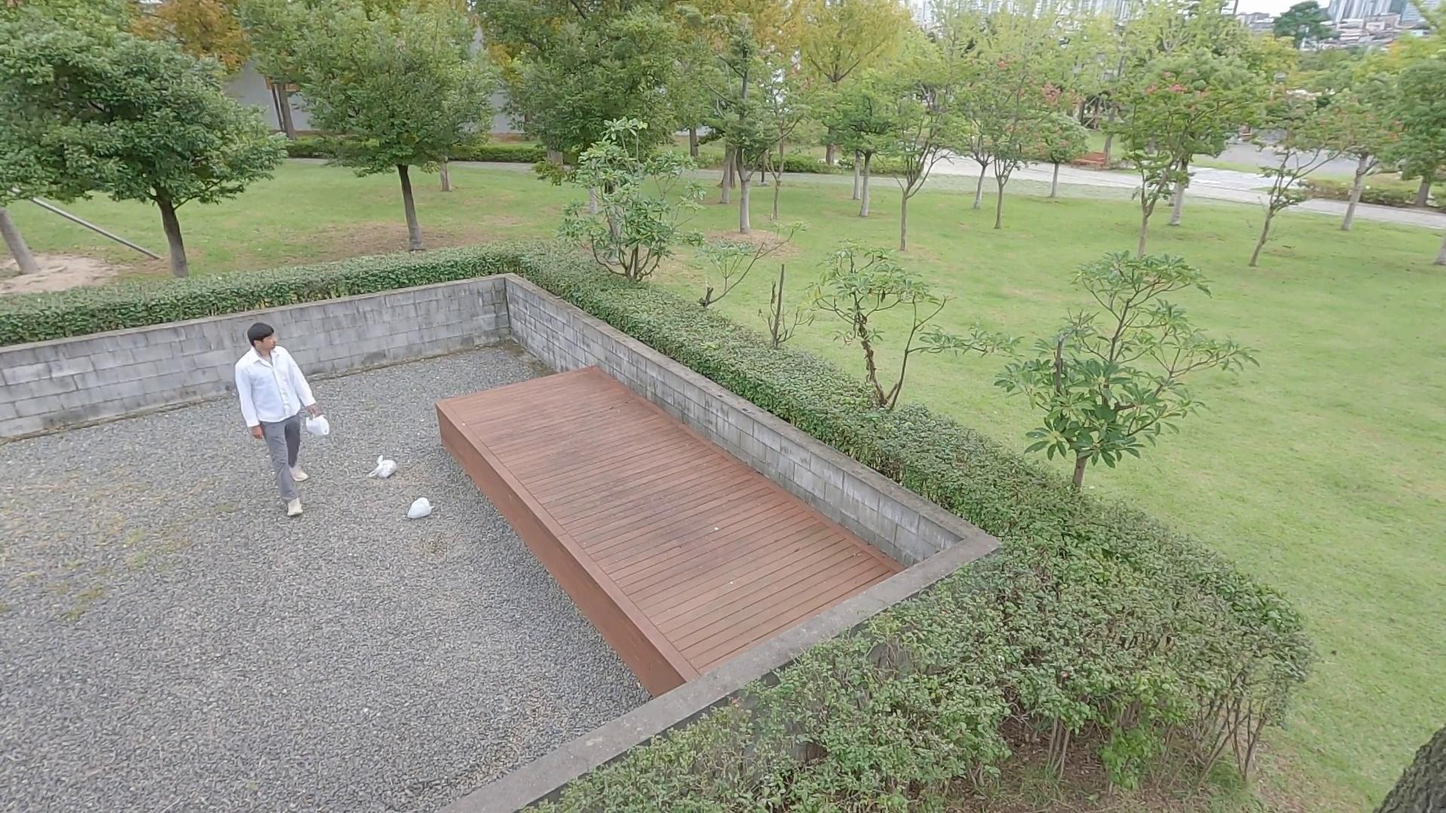person: (235, 322, 324, 521)
trash: (367, 453, 400, 481), (303, 412, 333, 438), (406, 496, 435, 522)
